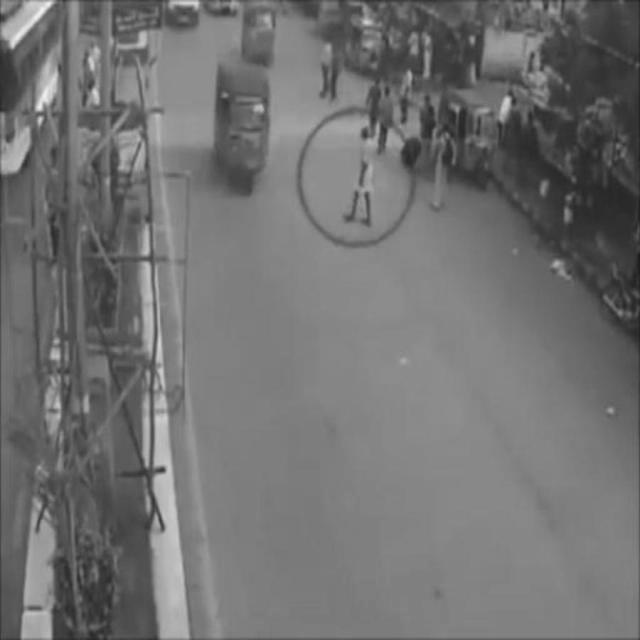person: (343, 128, 373, 228), (433, 126, 453, 217)
vehicle: (215, 61, 270, 195), (443, 88, 497, 190), (243, 2, 277, 68)
